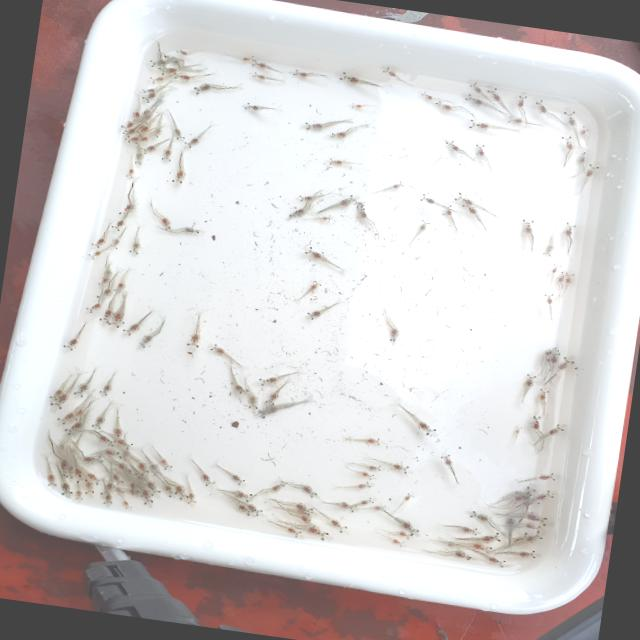babyshrimp: (523, 509, 554, 526), (414, 417, 440, 437), (392, 517, 419, 536), (480, 550, 508, 568), (305, 524, 331, 542), (519, 215, 537, 240), (301, 244, 328, 260), (463, 508, 490, 524), (48, 390, 69, 410), (289, 501, 315, 517), (532, 468, 558, 484), (474, 529, 503, 543), (531, 97, 553, 115), (191, 81, 219, 95), (60, 418, 83, 435), (561, 106, 578, 129), (445, 548, 475, 561), (527, 487, 554, 501), (293, 482, 318, 497), (519, 529, 544, 544), (460, 91, 485, 106), (255, 403, 280, 418), (543, 422, 569, 436), (450, 188, 476, 202), (93, 432, 117, 447), (355, 202, 375, 220), (466, 117, 495, 129), (72, 379, 90, 398), (144, 477, 162, 496), (554, 355, 573, 373), (168, 165, 185, 185), (106, 308, 123, 328), (336, 70, 362, 83), (284, 523, 305, 539), (417, 192, 442, 205), (137, 330, 155, 348), (227, 489, 254, 501), (521, 370, 538, 389), (472, 138, 489, 157), (389, 460, 412, 474), (59, 335, 79, 351), (119, 319, 140, 334), (548, 258, 563, 279), (95, 306, 113, 323), (460, 198, 477, 216), (482, 85, 499, 103), (89, 411, 105, 430), (53, 410, 72, 426), (536, 385, 552, 404), (181, 133, 201, 148), (454, 525, 481, 536), (327, 519, 348, 533), (160, 482, 177, 499), (584, 161, 600, 179), (140, 487, 155, 506), (547, 348, 562, 367), (558, 132, 573, 151), (206, 341, 225, 356), (137, 141, 157, 155), (186, 329, 200, 349), (83, 300, 103, 314), (563, 219, 577, 239), (58, 480, 75, 496), (134, 459, 151, 475), (300, 120, 327, 130), (88, 234, 106, 249), (199, 468, 214, 486), (511, 548, 538, 558), (576, 147, 591, 165), (303, 308, 322, 322), (256, 375, 280, 386), (336, 193, 356, 206), (530, 412, 543, 432), (157, 454, 173, 470), (537, 242, 553, 258), (127, 238, 142, 255), (73, 466, 88, 483), (436, 450, 451, 467), (442, 137, 459, 152), (325, 154, 346, 166), (285, 207, 306, 219), (83, 248, 104, 260), (338, 500, 359, 512), (362, 434, 383, 446), (378, 66, 397, 79), (230, 381, 249, 394), (156, 65, 180, 75), (109, 215, 124, 231), (114, 438, 134, 450), (385, 536, 405, 548), (541, 291, 556, 307), (514, 92, 529, 108), (120, 124, 137, 138), (261, 391, 278, 405), (159, 144, 172, 162), (229, 472, 247, 485), (503, 113, 524, 124), (157, 215, 172, 230), (47, 386, 61, 402), (46, 471, 60, 487), (139, 90, 156, 103), (248, 57, 268, 68), (394, 530, 416, 540), (432, 100, 454, 110), (242, 100, 263, 110), (95, 382, 110, 396), (363, 461, 384, 471), (82, 479, 95, 495), (325, 129, 348, 138), (147, 58, 170, 67), (355, 494, 375, 504), (416, 88, 434, 99), (512, 422, 526, 436), (400, 491, 415, 504), (465, 79, 480, 92), (118, 120, 134, 132), (417, 218, 429, 234), (246, 394, 258, 410), (290, 67, 311, 76), (352, 480, 373, 489), (358, 469, 375, 480), (81, 454, 104, 462), (308, 278, 322, 291), (99, 493, 113, 506), (250, 70, 270, 79), (174, 126, 186, 141), (132, 151, 144, 166), (171, 71, 191, 80), (388, 326, 399, 342), (563, 270, 574, 286), (110, 423, 121, 438), (389, 179, 405, 189), (148, 75, 166, 83), (183, 225, 201, 233), (123, 166, 134, 179), (72, 487, 83, 500), (140, 86, 158, 93), (121, 499, 133, 509), (316, 213, 332, 220), (347, 101, 363, 108), (174, 48, 188, 54)
